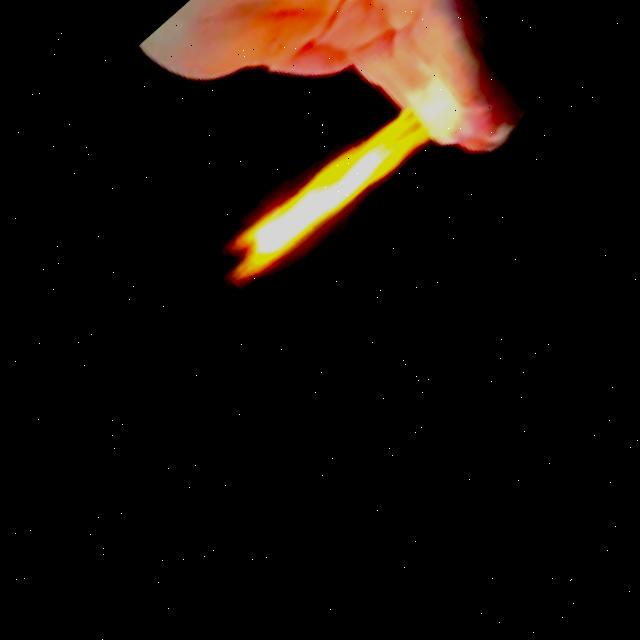Smoke: (180, 53, 495, 332)
